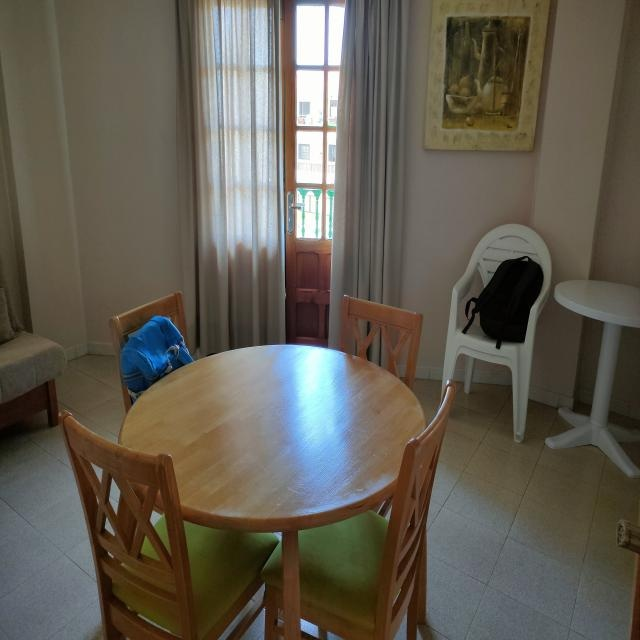chair: (59, 411, 281, 640), (298, 380, 456, 640), (441, 224, 552, 444), (336, 296, 423, 384), (108, 291, 188, 351), (261, 538, 285, 640), (119, 363, 132, 414)
sink: (0, 286, 67, 430)
stove: (119, 345, 428, 640), (545, 280, 640, 479)
